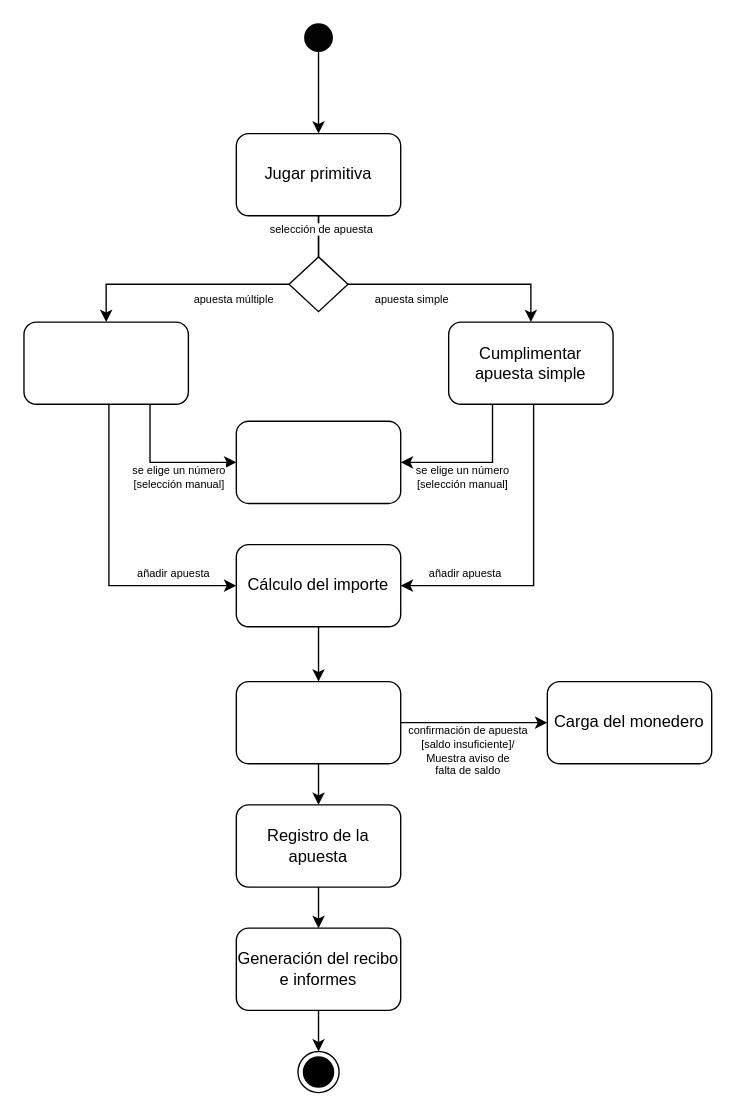
Image size: 736x1117. Some labels were removed from this diagram. The shapes that lost their labels are listed below. From the top down, each one's centre as x and y in pixels, then its label:
At pixel 105 362: "Cumplimentar apuesta múltiple".
At pixel 318 461: "Selección del reintegro".
At pixel 318 722: "Cobro del importe".
